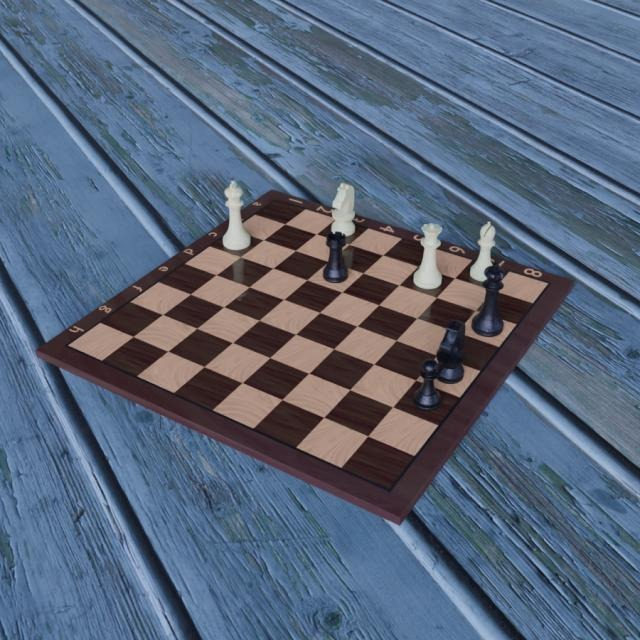black-king: (469, 260, 504, 338)
black-knight: (436, 317, 468, 386)
black-pawn: (409, 356, 442, 412)
black-rook: (322, 231, 350, 283)
white-bishop: (469, 218, 497, 282)
white-king: (222, 178, 252, 252)
white-knight: (330, 180, 358, 239)
white-queen: (412, 222, 443, 293)
